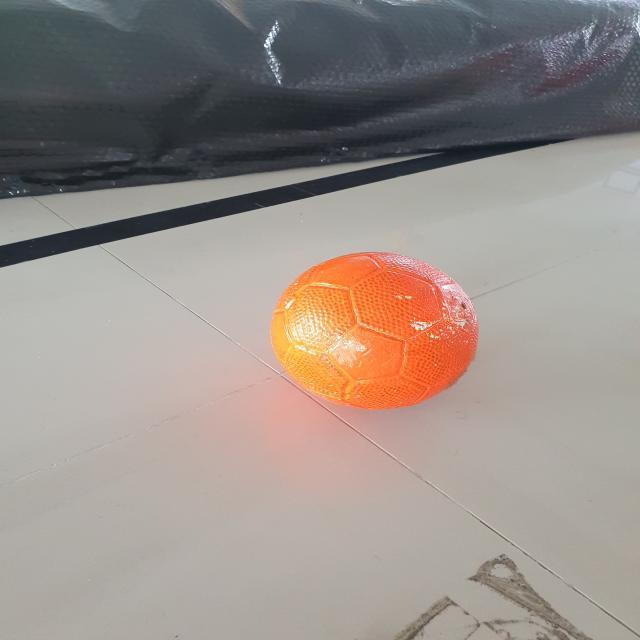bola: (270, 242, 490, 416)
